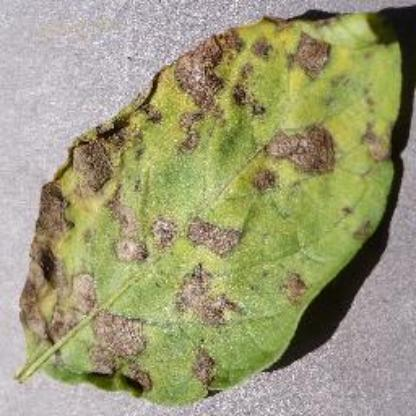Early-Blight: (14, 12, 402, 404)
